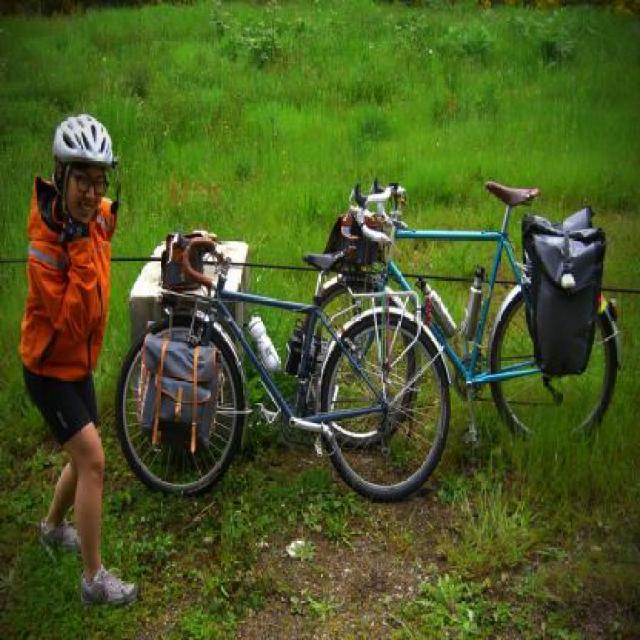Person: (19, 80, 124, 618)
